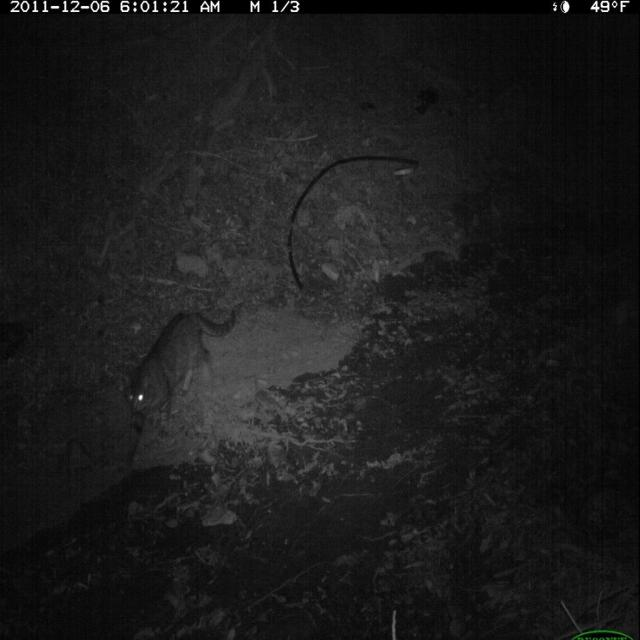cat: (122, 301, 237, 463)
